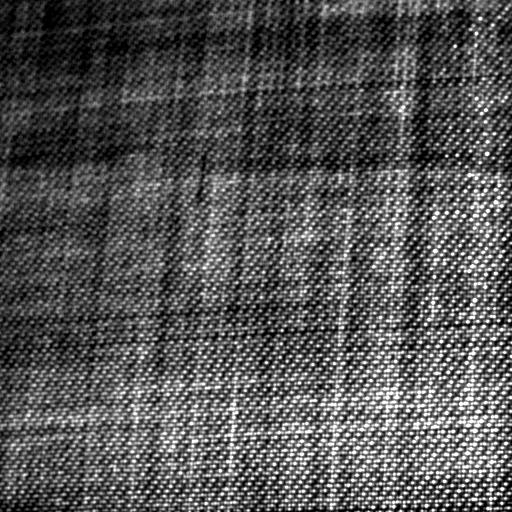fabric_perfect: (2, 4, 512, 510)
